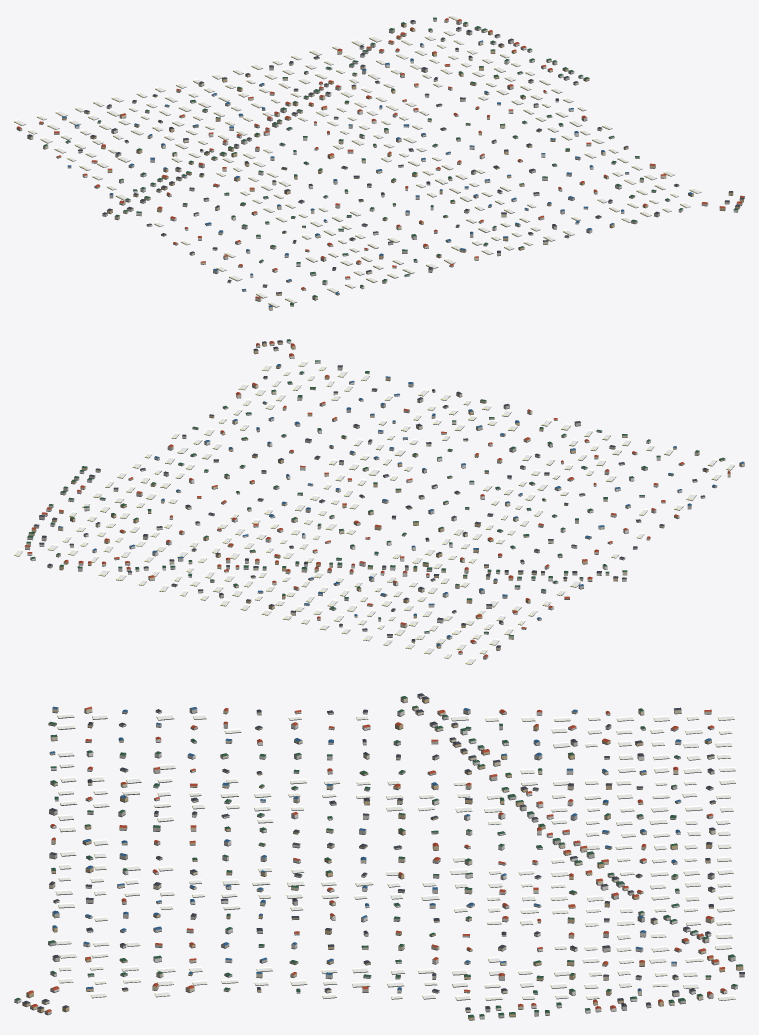
File: buildings_T_E04_N05.glb
The picture shows the model from 3 angles, top to bottom: view 1: azimuth 30°, elevation 25°; view 2: azimuth 150°, elevation 25°; view 3: azimuth 270°, elevation 25°; orthographic projection. The views are drawn at different scales.
Visible parts, largest first — view 1: T_E04_N05_roofs_agri_greenhouse_arch, T_E04_N05_slope_seating_foundations, T_E04_N05_walls_wall_pastel_sand_gray, T_E04_N05_walls_wall_dalat_cream_stucco, T_E04_N05_walls_wall_modern_warm_white, T_E04_N05_roofs_roof_pine_green_hip, T_E04_N05_walls_wall_french_ochre_villa, T_E04_N05_roofs_roof_slate_French_villa_hip, T_E04_N05_roofs_roof_terracotta_gable, T_E04_N05_roofs_roof_highland_blue_gable; view 2: T_E04_N05_roofs_agri_greenhouse_arch, T_E04_N05_slope_seating_foundations, T_E04_N05_walls_wall_pastel_sand_gray, T_E04_N05_roofs_roof_pine_green_hip, T_E04_N05_walls_wall_modern_warm_white, T_E04_N05_walls_wall_dalat_cream_stucco, T_E04_N05_roofs_roof_slate_French_villa_hip, T_E04_N05_walls_wall_french_ochre_villa, T_E04_N05_roofs_roof_terracotta_gable, T_E04_N05_roofs_roof_highland_blue_gable; view 3: T_E04_N05_roofs_agri_greenhouse_arch, T_E04_N05_slope_seating_foundations, T_E04_N05_walls_wall_pastel_sand_gray, T_E04_N05_walls_wall_modern_warm_white, T_E04_N05_walls_wall_dalat_cream_stucco, T_E04_N05_roofs_roof_pine_green_hip, T_E04_N05_walls_wall_french_ochre_villa, T_E04_N05_roofs_roof_slate_French_villa_hip, T_E04_N05_roofs_roof_terracotta_gable, T_E04_N05_roofs_roof_highland_blue_gable.
Boxes of the visible parts, bbox=[...] form: T_E04_N05_roofs_agri_greenhouse_arch: bbox=[14, 14, 701, 307]; T_E04_N05_slope_seating_foundations: bbox=[14, 16, 744, 310]; T_E04_N05_walls_wall_pastel_sand_gray: bbox=[16, 20, 744, 291]; T_E04_N05_walls_wall_dalat_cream_stucco: bbox=[27, 23, 742, 310]; T_E04_N05_walls_wall_modern_warm_white: bbox=[74, 19, 738, 288]; T_E04_N05_roofs_roof_pine_green_hip: bbox=[43, 17, 738, 305]; T_E04_N05_walls_wall_french_ochre_villa: bbox=[62, 23, 743, 306]; T_E04_N05_roofs_roof_slate_French_villa_hip: bbox=[27, 20, 743, 293]; T_E04_N05_roofs_roof_terracotta_gable: bbox=[17, 18, 744, 298]; T_E04_N05_roofs_roof_highland_blue_gable: bbox=[62, 40, 693, 307]; T_E04_N05_roofs_agri_greenhouse_arch: bbox=[14, 360, 734, 664]; T_E04_N05_slope_seating_foundations: bbox=[14, 342, 744, 664]; T_E04_N05_walls_wall_pastel_sand_gray: bbox=[25, 345, 717, 659]; T_E04_N05_roofs_roof_pine_green_hip: bbox=[26, 339, 725, 636]; T_E04_N05_walls_wall_modern_warm_white: bbox=[27, 340, 705, 639]; T_E04_N05_walls_wall_dalat_cream_stucco: bbox=[26, 342, 744, 650]; T_E04_N05_roofs_roof_slate_French_villa_hip: bbox=[34, 340, 708, 647]; T_E04_N05_walls_wall_french_ochre_villa: bbox=[31, 341, 725, 648]; T_E04_N05_roofs_roof_terracotta_gable: bbox=[24, 341, 730, 657]; T_E04_N05_roofs_roof_highland_blue_gable: bbox=[58, 364, 744, 645]; T_E04_N05_roofs_agri_greenhouse_arch: bbox=[55, 713, 735, 1000]; T_E04_N05_slope_seating_foundations: bbox=[14, 697, 744, 1020]; T_E04_N05_walls_wall_pastel_sand_gray: bbox=[44, 708, 744, 1017]; T_E04_N05_walls_wall_modern_warm_white: bbox=[14, 694, 737, 1018]; T_E04_N05_walls_wall_dalat_cream_stucco: bbox=[30, 697, 715, 1015]; T_E04_N05_roofs_roof_pine_green_hip: bbox=[14, 696, 742, 1017]; T_E04_N05_walls_wall_french_ochre_villa: bbox=[22, 698, 743, 1020]; T_E04_N05_roofs_roof_slate_French_villa_hip: bbox=[22, 693, 744, 1009]; T_E04_N05_roofs_roof_terracotta_gable: bbox=[27, 706, 726, 1012]; T_E04_N05_roofs_roof_highland_blue_gable: bbox=[50, 706, 711, 991].
Bounding box in the file's own units: 1950 × 32.36 × 1863.
